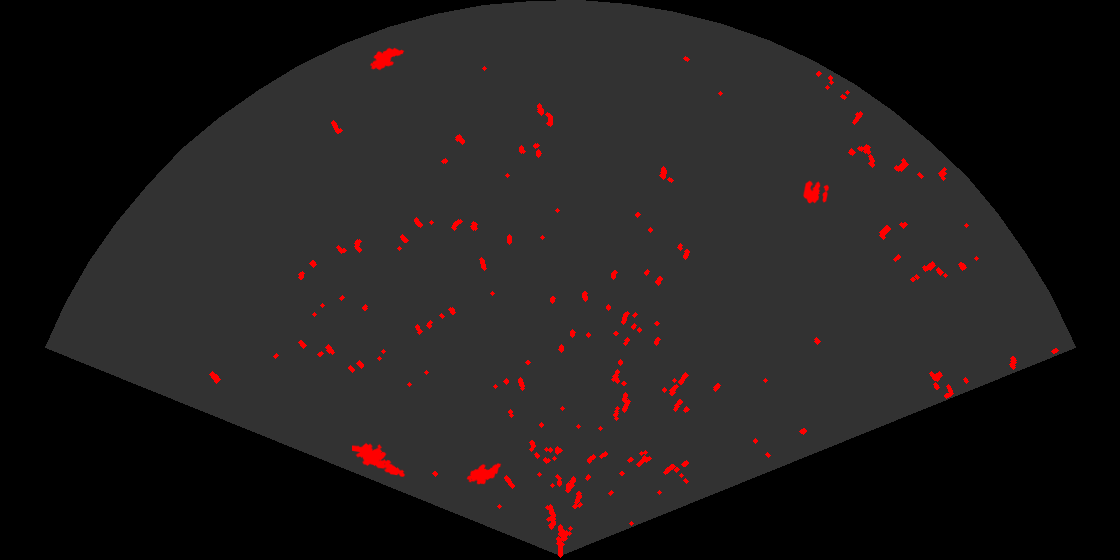AUV: (368, 46, 406, 72), (465, 461, 503, 486)
ball: (802, 179, 831, 205)
frogman: (352, 441, 407, 479)
